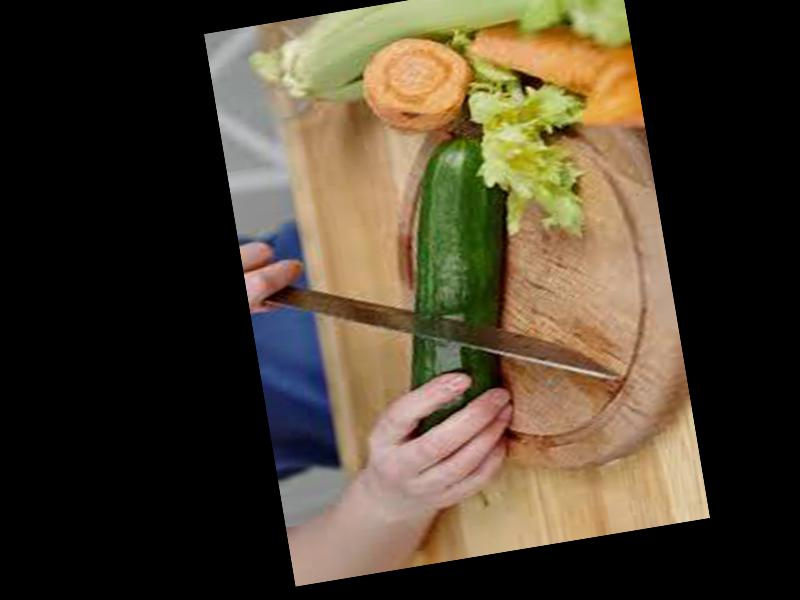Cucumber: (370, 130, 536, 434)
